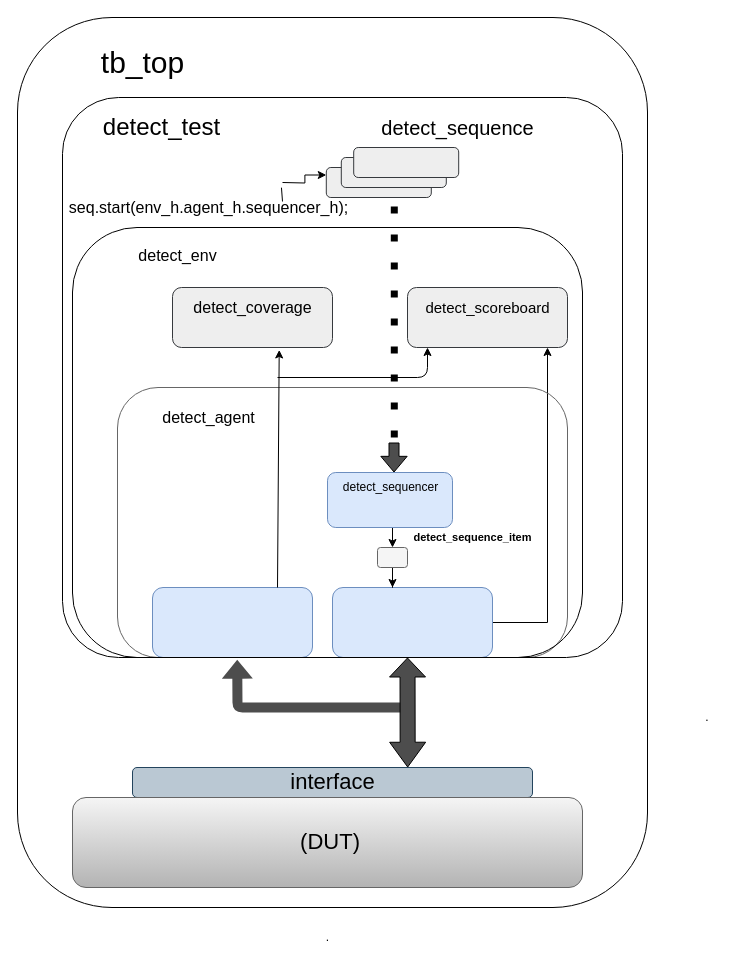
The diagram is 745 pixels wide and 965 high, and some of its shapes have lost their labels. Here are the shapes that lost their labels. From the top down, the box of each, then its label:
(152, 586, 312, 658): detect_monitor
(332, 586, 492, 658): detect_driver
